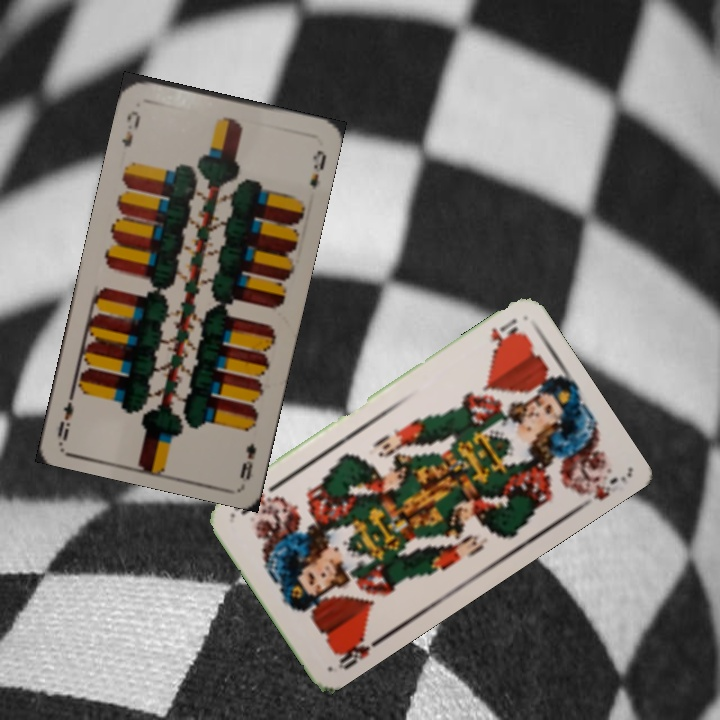E9: (117, 106, 143, 150), (235, 439, 259, 482)
HO: (331, 630, 386, 673), (485, 314, 526, 354)
